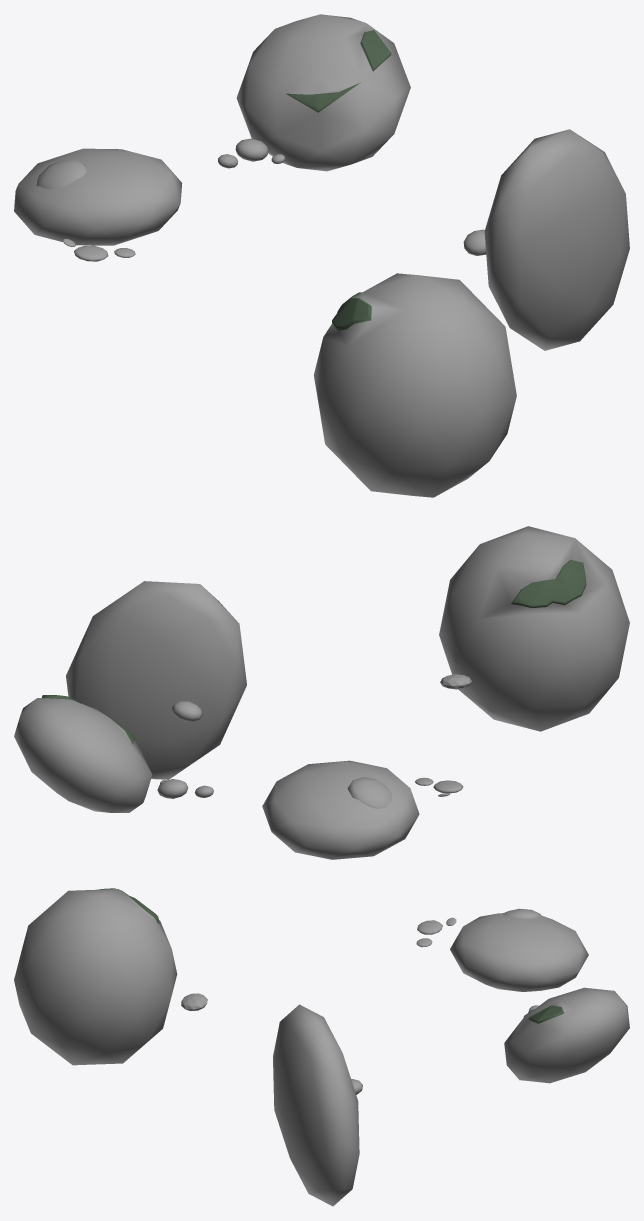
The model's file is OutRocks.glb.
The picture shows the model from 3 angles, top to bottom: view 1: azimuth 30°, elevation 25°; view 2: azimuth 150°, elevation 25°; view 3: azimuth 270°, elevation 25°; orthographic projection. The views are drawn at different scales.
Parts seen in each view (by area): view 1: OutRocks.004, OutRocks.003, OutRocks, OutRocks.001, OutRocks.002; view 2: OutRocks.004, OutRocks.003, OutRocks, OutRocks.001, OutRocks.002, OutRocks.006, OutRocks.007; view 3: OutRocks.004, OutRocks.003, OutRocks, OutRocks.001.
Part boxes in pixels (x1,y1,x2,y2): OutRocks.004: [314, 273, 516, 497]; OutRocks.003: [484, 129, 629, 350]; OutRocks: [236, 14, 410, 171]; OutRocks.001: [14, 148, 182, 245]; OutRocks.002: [36, 159, 86, 189]; OutRocks.004: [439, 526, 629, 731]; OutRocks.003: [66, 581, 246, 779]; OutRocks: [14, 695, 152, 812]; OutRocks.001: [262, 760, 419, 859]; OutRocks.002: [347, 777, 392, 808]; OutRocks.006: [172, 701, 202, 721]; OutRocks.007: [157, 779, 188, 798]; OutRocks.004: [14, 888, 177, 1065]; OutRocks.003: [273, 1004, 359, 1206]; OutRocks: [504, 987, 629, 1083]; OutRocks.001: [450, 913, 588, 991].
Bounding box in the file's own units: 4.47 × 2.07 × 6.08.
2 materials, 2 textured.
